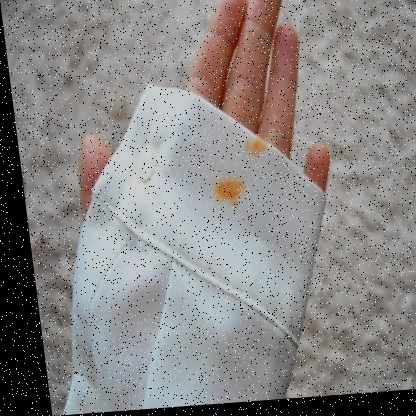kimchi: (217, 179, 242, 205), (248, 143, 271, 164)
